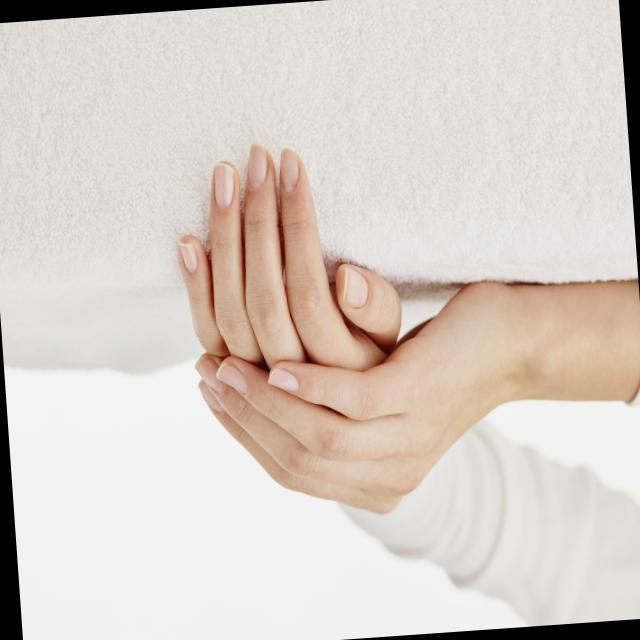Nail: (192, 355, 224, 392), (341, 266, 367, 307), (215, 362, 246, 392), (196, 377, 222, 412), (278, 145, 298, 190), (247, 140, 266, 186), (213, 161, 232, 205), (266, 367, 297, 390), (177, 241, 196, 271)
